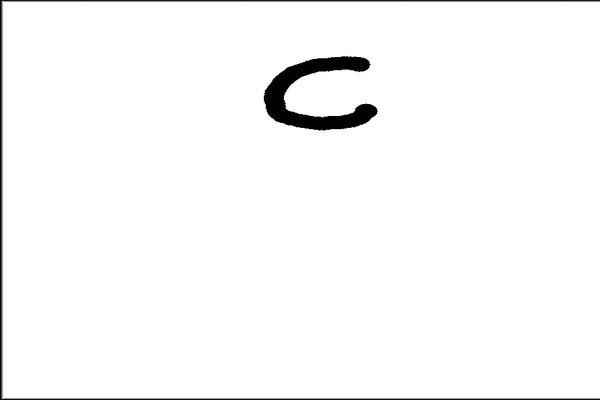C: (256, 50, 382, 136)
